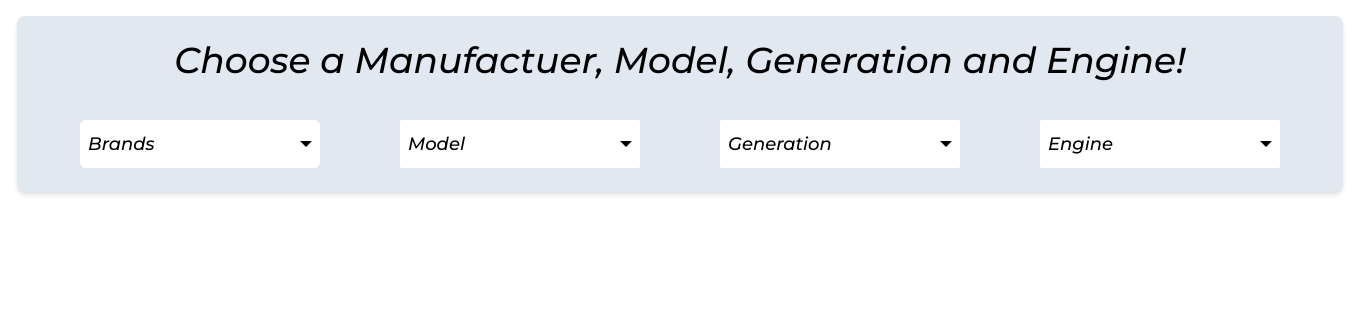
Test: <Form /> Component › should display a dropdown when button is clicked
The image size is (1361, 317).
Click the button "Brands": (200, 144) x1=80 y1=120 x2=320 y2=168
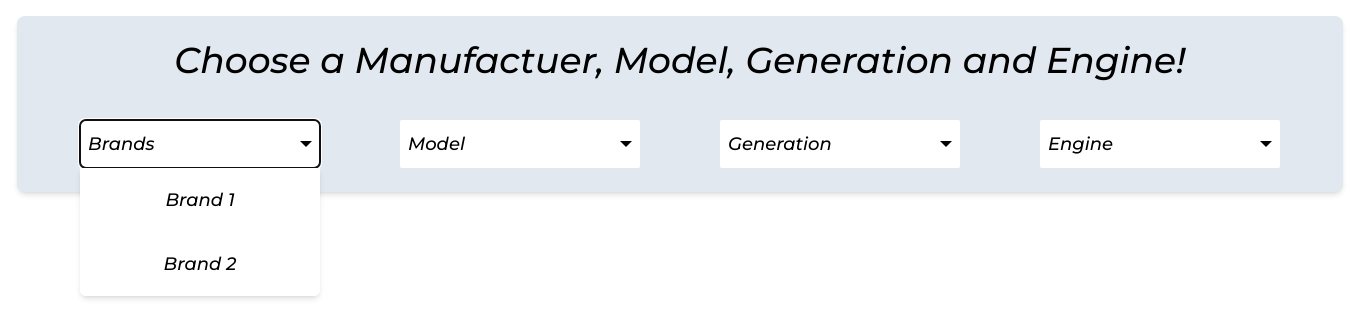
Check: the button "Brand 1" is shown, box x1=80 y1=168 x2=320 y2=232
Check: the button "Brand 2" is shown, box x1=80 y1=232 x2=320 y2=296
